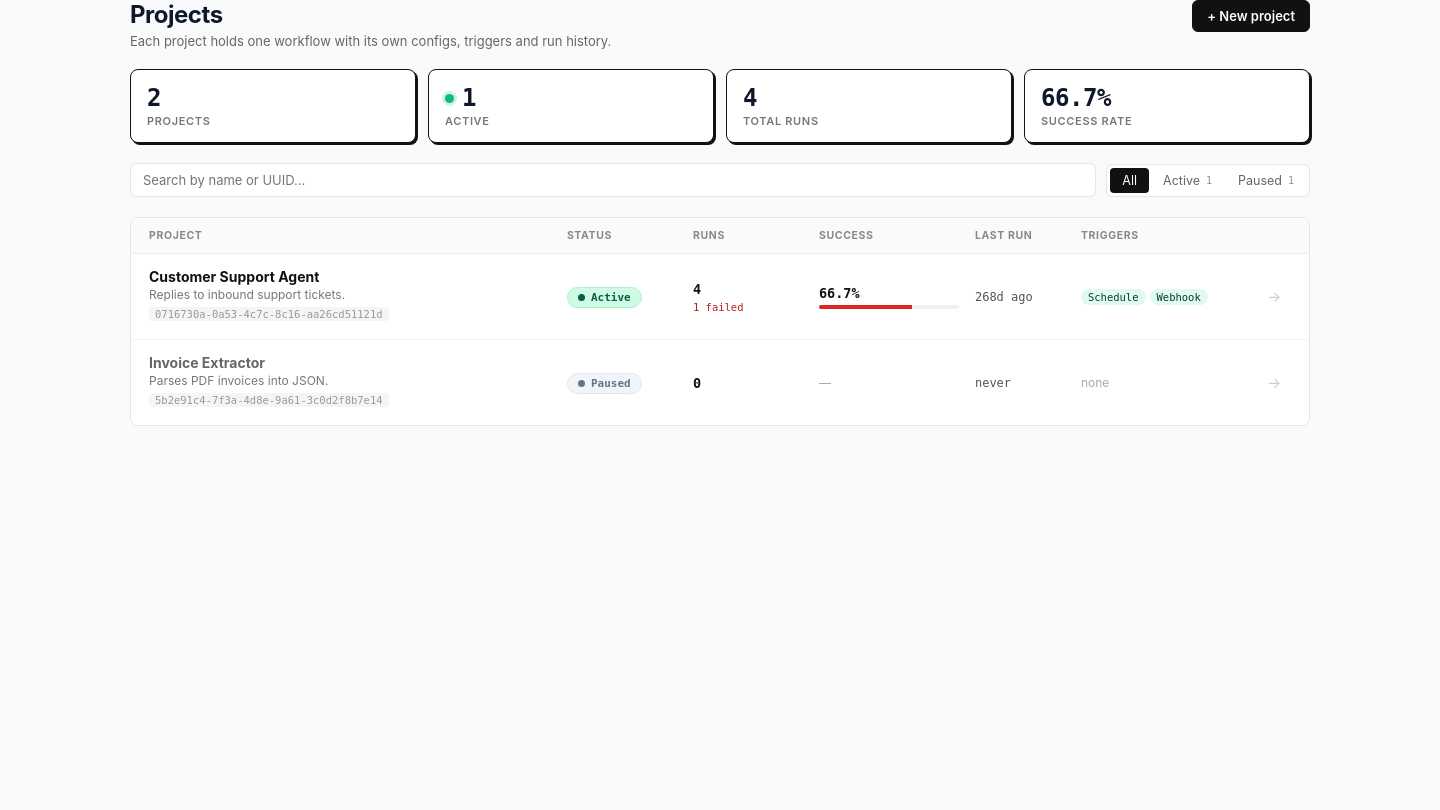
Test case: new project modal › will not create a project without a name
What coordinates should you click on to do the following:
click the button "+ New project"
I would click on:
 (1251, 16)
Its box is [1192,0,1310,32].
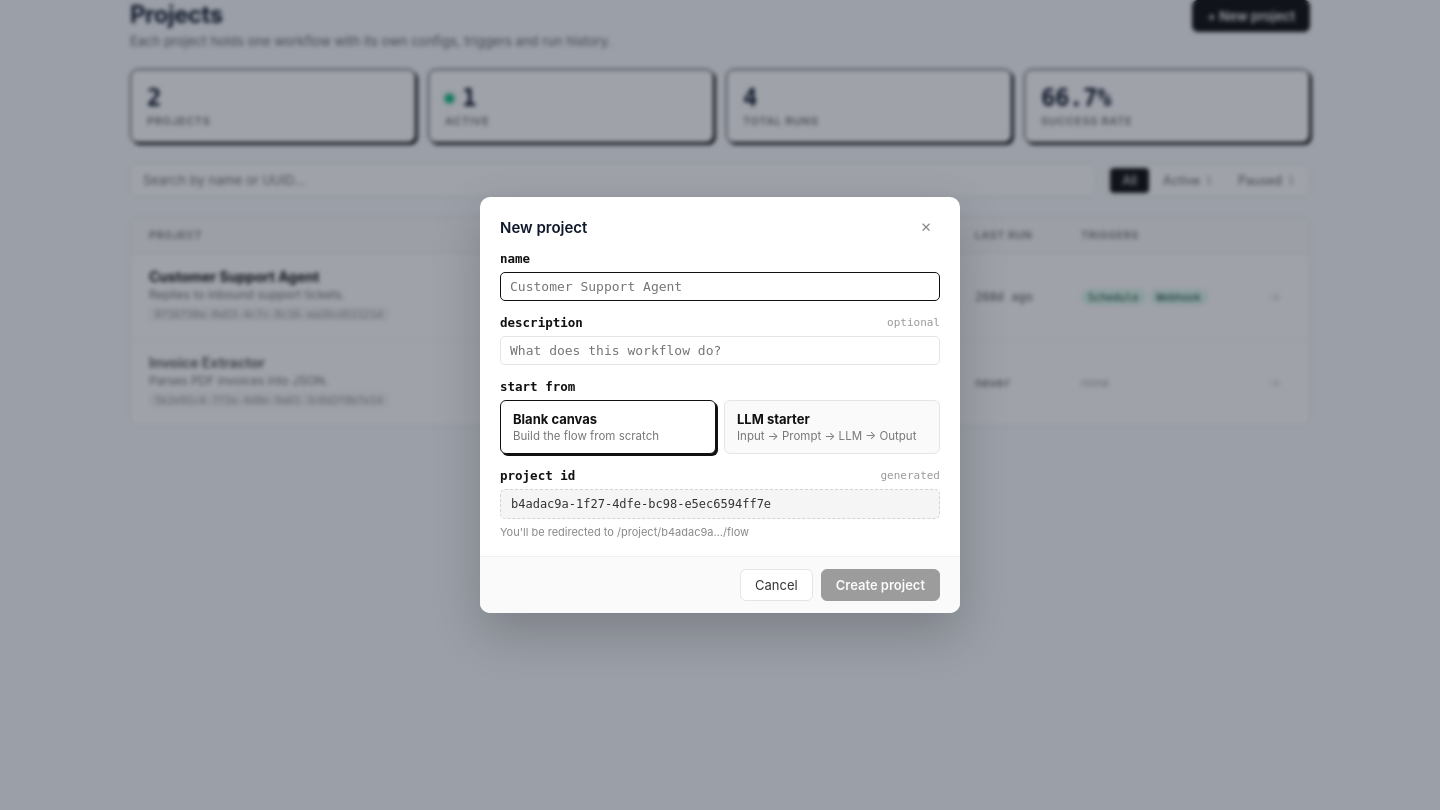
Expected: the button "Create project" is disabled, [821,569,940,601]
